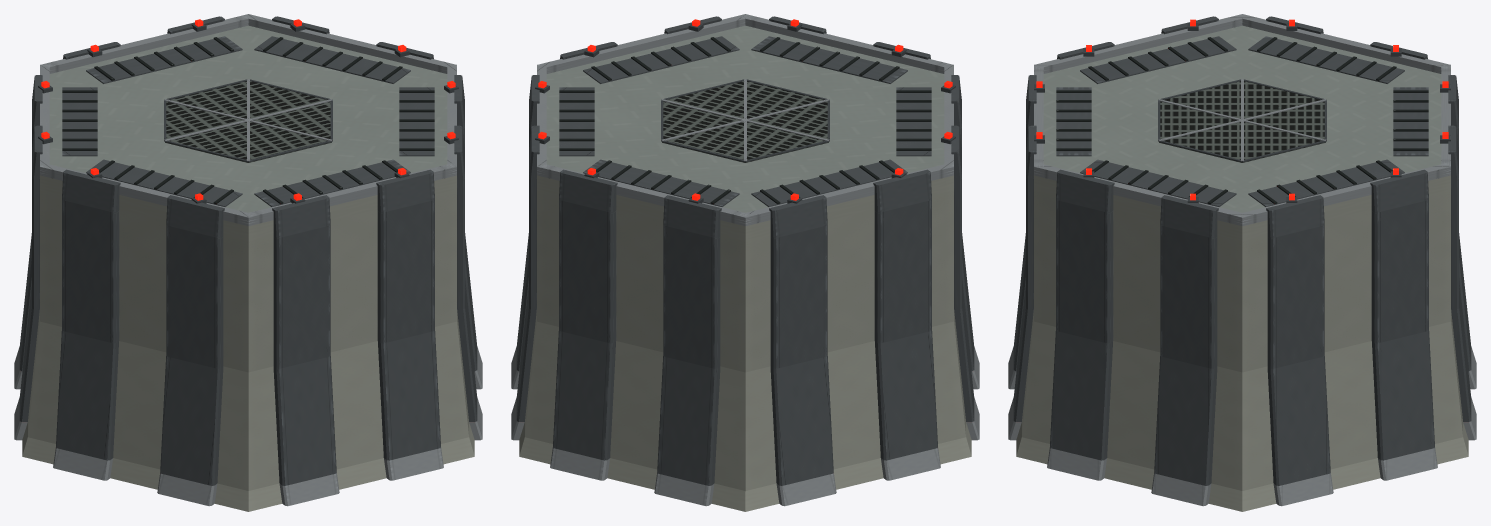
The model's file is pier.glb.
3 views of the same model, side by side, from view 1: azimuth 30°, elevation 25°; view 2: azimuth 150°, elevation 25°; view 3: azimuth 270°, elevation 25° (orthographic).
Visible parts, largest first — view 1: pier-lod0-roof0, pier-lod0-base0, pier-lod0-floor0; view 2: pier-lod0-roof0, pier-lod0-base0, pier-lod0-floor0; view 3: pier-lod0-roof0, pier-lod0-base0, pier-lod0-floor0.
Part boxes in pixels (x1=…): pier-lod0-roof0: x1=32, y1=14, x2=464, y2=241; pier-lod0-base0: x1=14, y1=233, x2=482, y2=511; pier-lod0-floor0: x1=32, y1=127, x2=464, y2=372; pier-lod0-roof0: x1=529, y1=14, x2=961, y2=241; pier-lod0-base0: x1=511, y1=233, x2=979, y2=511; pier-lod0-floor0: x1=529, y1=127, x2=961, y2=372; pier-lod0-roof0: x1=1026, y1=14, x2=1458, y2=241; pier-lod0-base0: x1=1008, y1=233, x2=1476, y2=511; pier-lod0-floor0: x1=1026, y1=127, x2=1458, y2=372.
Size of what is drawn, in the model's own units: 65.13 by 40.38 by 58.4.
8 materials, 8 textured.
